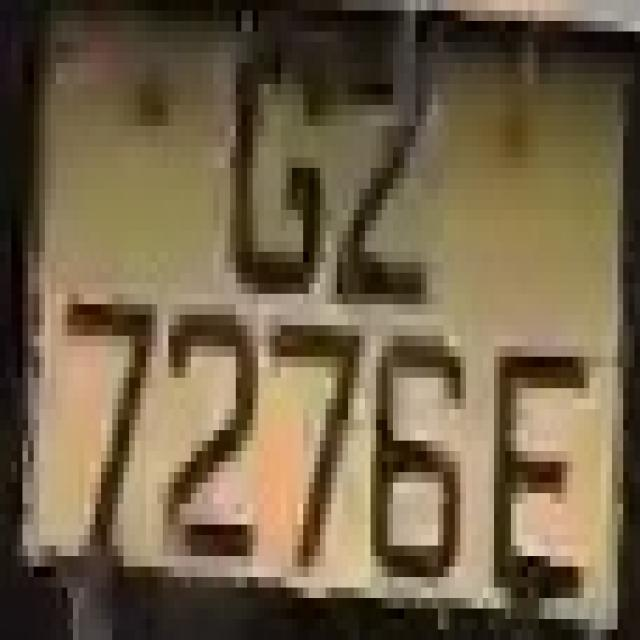2: (146, 262, 258, 567)
6: (365, 284, 477, 608)
7: (50, 262, 163, 577), (258, 283, 354, 588)
E: (483, 304, 595, 619)
G: (214, 21, 332, 315)
Z: (320, 21, 444, 336)
